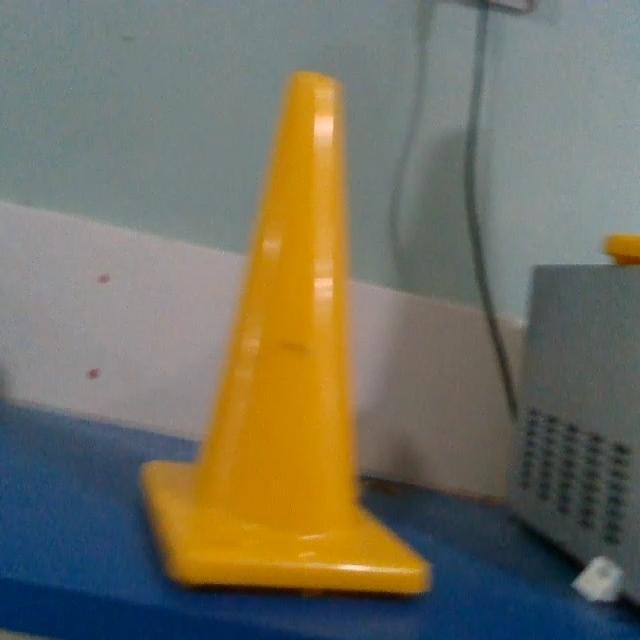cone: (140, 69, 433, 599)
